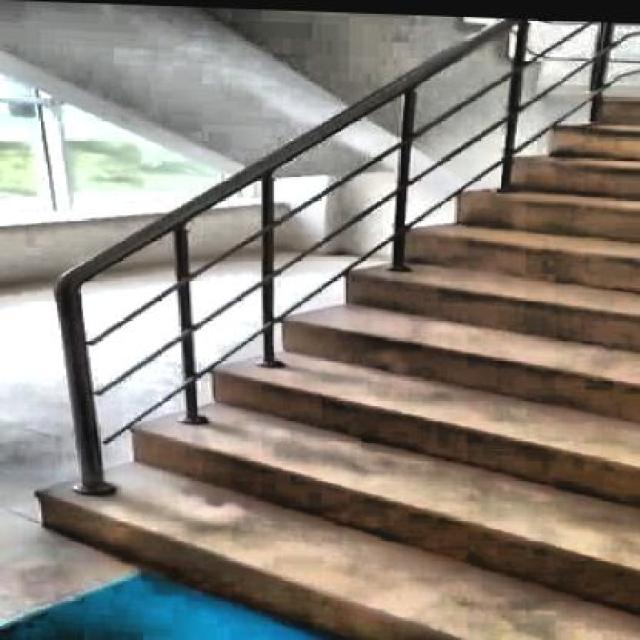stair: (26, 61, 640, 638)
